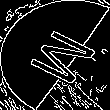M_SE: (13, 22, 97, 88)
